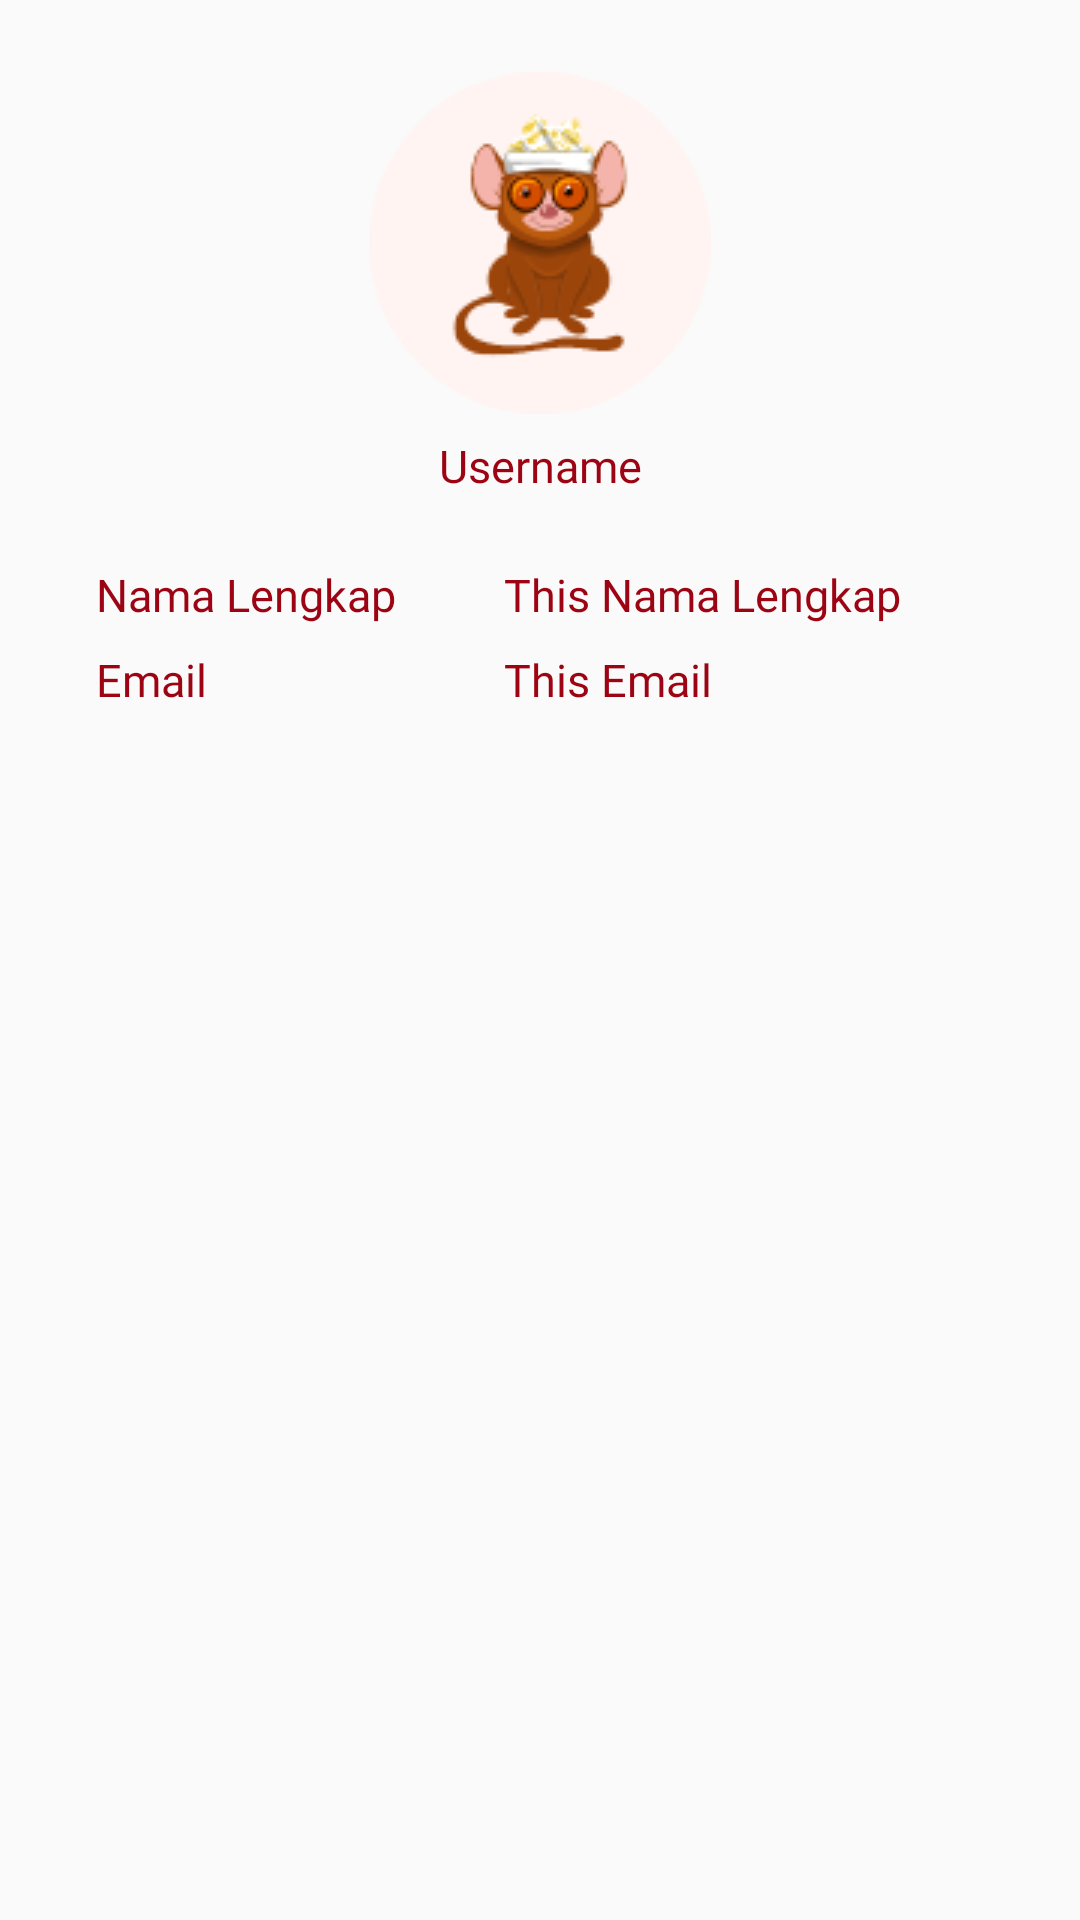

Screen size 1080 × 1920. Icon name, then its center in pixels as point (x, y):
tarsius: point (540, 235)
